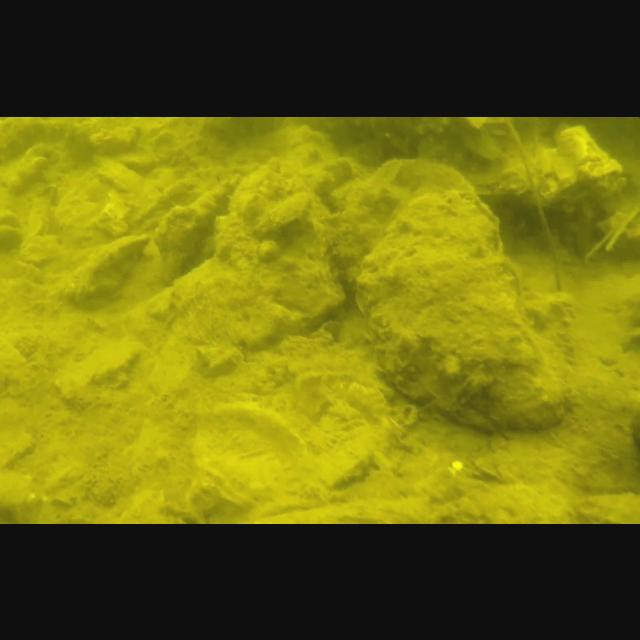Oyster-Closed: (356, 188, 560, 426), (244, 464, 640, 524), (329, 155, 468, 289), (191, 400, 303, 502), (150, 176, 230, 282), (58, 230, 150, 304), (253, 190, 314, 234)
Oyster-Open: (528, 116, 628, 208), (416, 116, 530, 196), (0, 207, 24, 249)
